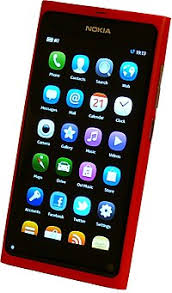nokia: (1, 1, 171, 293)
